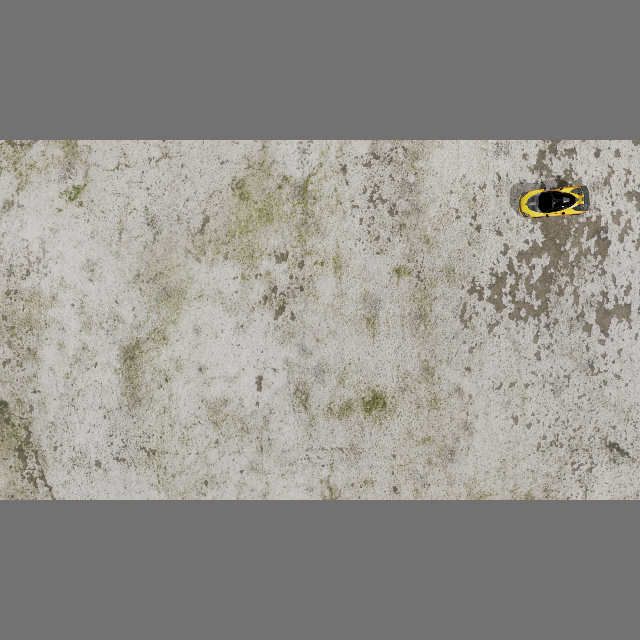car: (517, 182, 592, 221)
